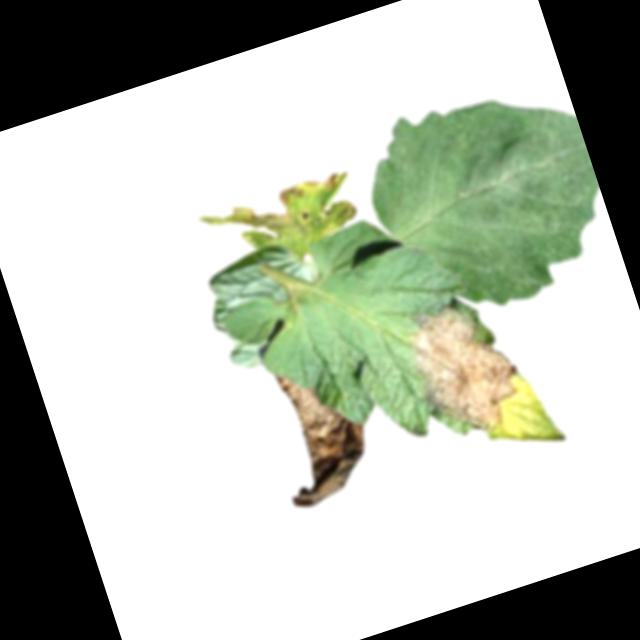Late_blight: (397, 287, 534, 449), (251, 352, 384, 514), (195, 164, 367, 281)
healthy: (347, 63, 626, 337)
